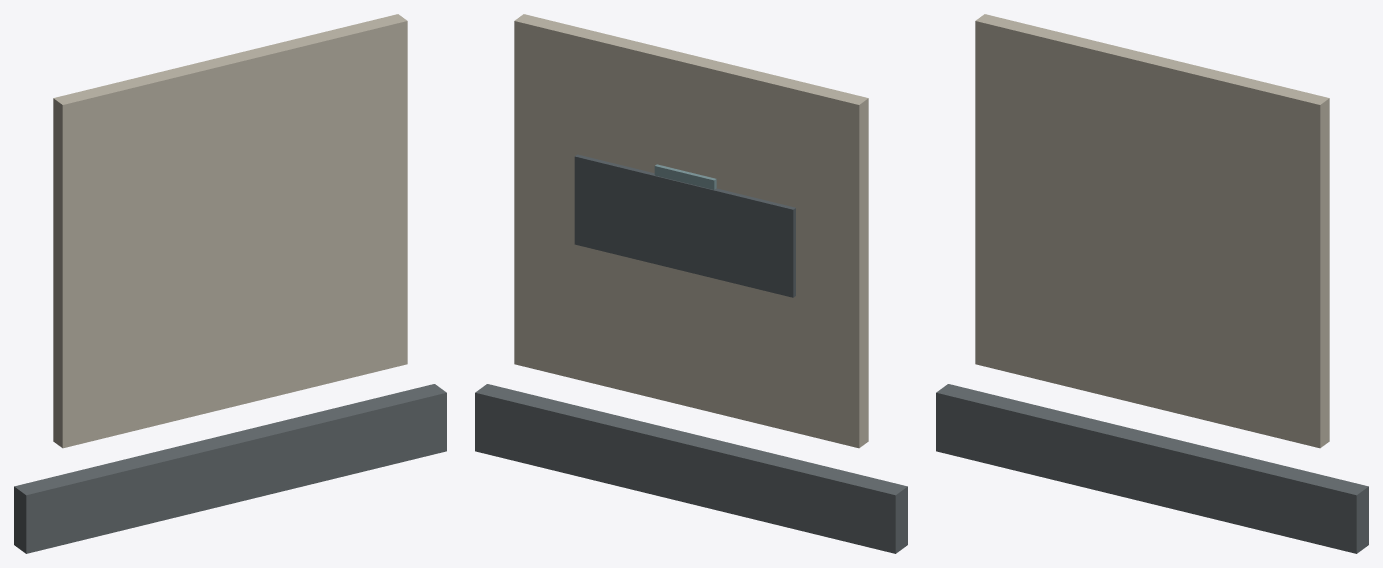
Rendered from iz3_prison_bars_01.glb.
3 views of the same model, side by side, from view 1: azimuth 30°, elevation 25°; view 2: azimuth 150°, elevation 25°; view 3: azimuth 330°, elevation 25° (orthographic).
Visible parts, largest first — view 1: cabinet, base; view 2: cabinet, base, panel, display; view 3: cabinet, base.
Boxes of the visible parts, x1,y1,x2,y2 form: cabinet: (53,14,407,448); base: (14,384,446,553); cabinet: (514,14,868,448); base: (475,384,907,553); panel: (574,154,795,297); display: (654,164,716,189); cabinet: (975,14,1329,448); base: (936,384,1368,553).
Bounding box in the file's own units: 2.4 × 2.39 × 0.1342.
